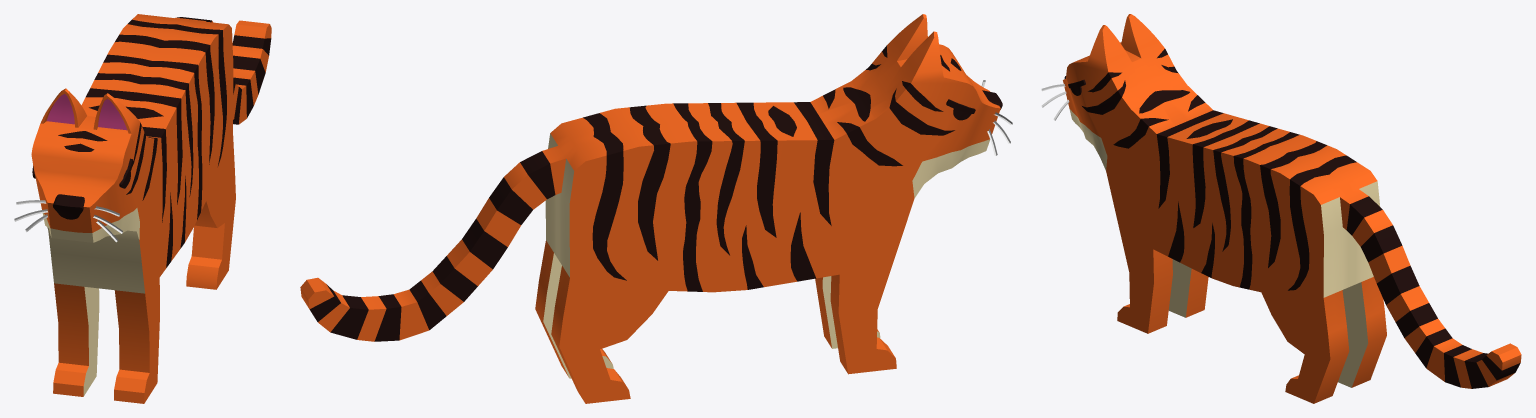
The model's file is Tiger.gltf.
The picture shows the model from 3 angles, left to right: view 1: azimuth 30°, elevation 25°; view 2: azimuth 150°, elevation 25°; view 3: azimuth 270°, elevation 25°; orthographic projection. The views are drawn at different scales.
Visible parts, largest first — view 1: Plane.157, Cube.007, Circle.1953; view 2: Plane.157; view 3: Plane.157.
Part boxes in pixels (left/top/right/bottom): Plane.157: left=31, top=14, right=271, bottom=403; Cube.007: left=14, top=200, right=122, bottom=242; Circle.1953: left=53, top=194, right=84, bottom=219; Plane.157: left=300, top=14, right=1000, bottom=403; Plane.157: left=1063, top=14, right=1521, bottom=403.
Size of the model in its own units: 2.14 by 1.37 by 2.14.
4 materials, 2 textured.
